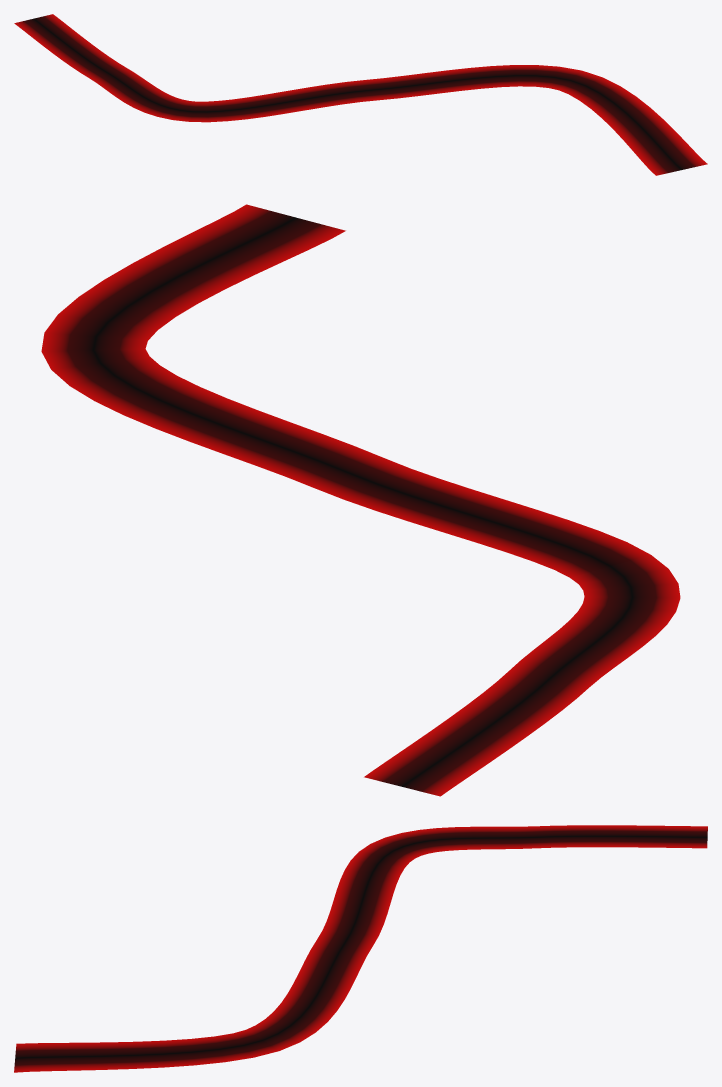
The model's file is CoastalCliff_Exit_Runoff.fbx.
3 views of the same model, one above another, from view 1: azimuth 30°, elevation 25°; view 2: azimuth 150°, elevation 25°; view 3: azimuth 270°, elevation 25° (orthographic). The views are drawn at different scales.
Visible parts, largest first — view 1: CoastalCliff_Exit_Runoff; view 2: CoastalCliff_Exit_Runoff; view 3: CoastalCliff_Exit_Runoff.
Boxes of the visible parts, x1,y1,x2,y2 form: CoastalCliff_Exit_Runoff: (14,14,707,175); CoastalCliff_Exit_Runoff: (41,204,680,796); CoastalCliff_Exit_Runoff: (14,825,707,1072).
Size of the model in its own units: 7.93 by 0.355 by 10.14.
